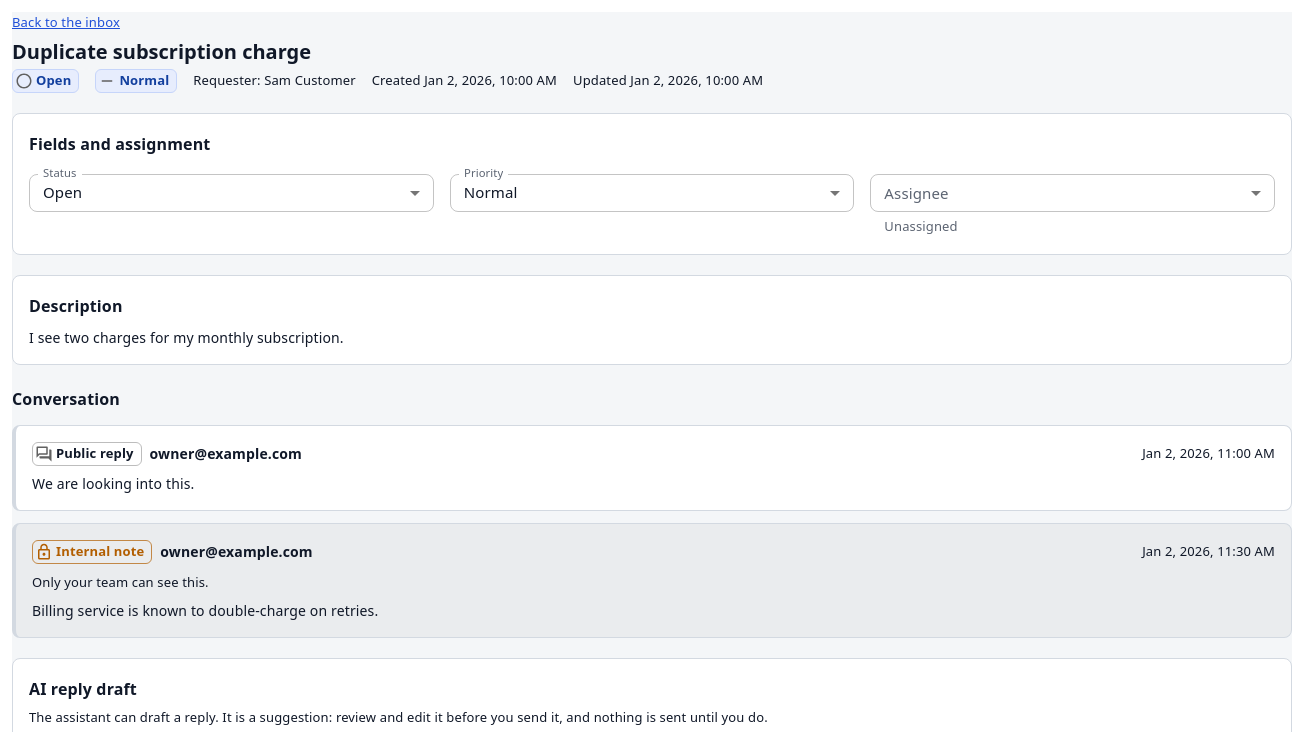
Test: TicketDetailPage › surfaces an illegal transition from the server instead of predicting it
Click the dropdown named "Status" at (63,192), box [43, 182, 82, 202]
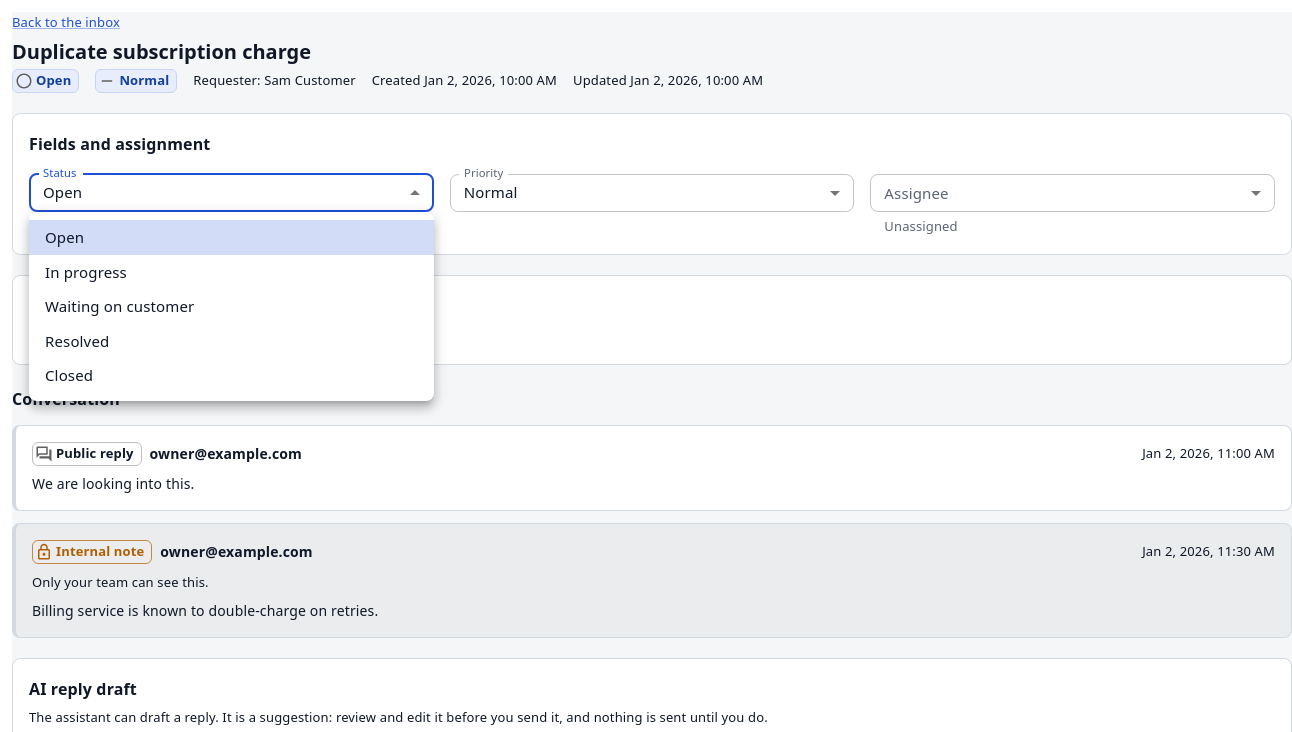
Click the option "Closed" at (69,375), box [45, 365, 93, 385]
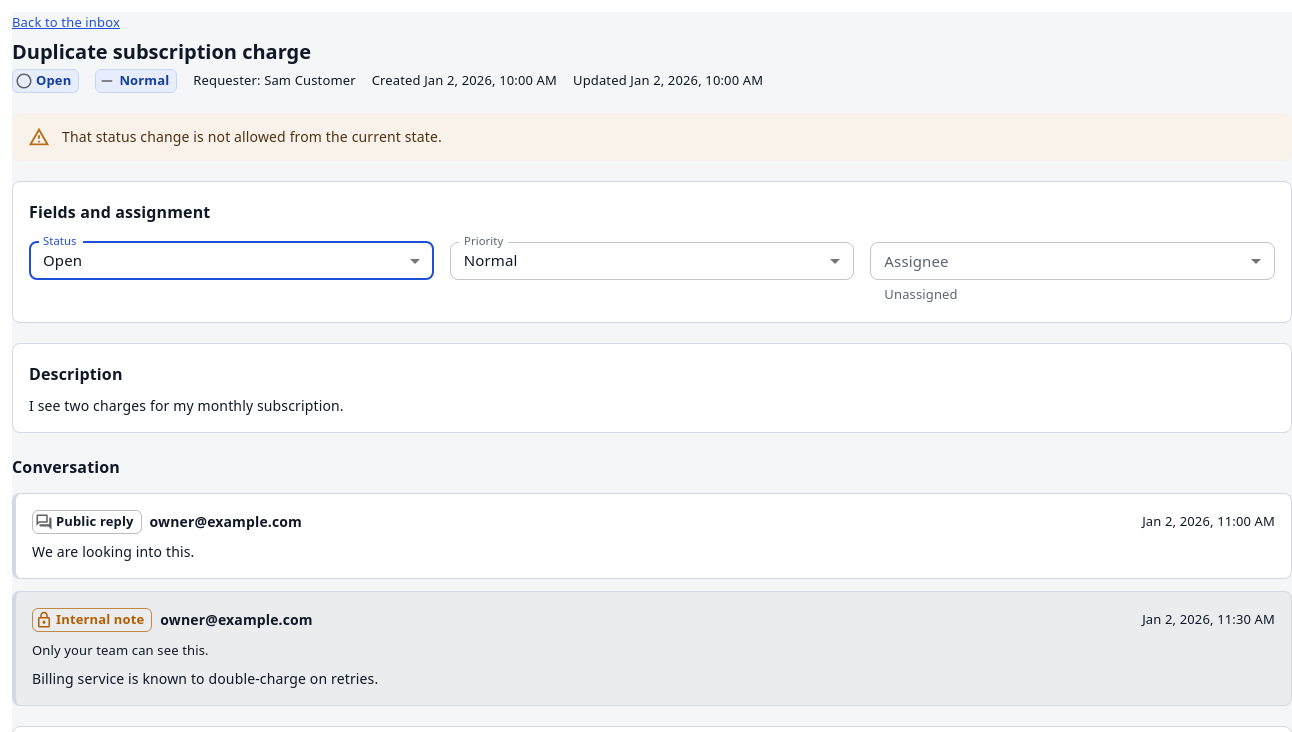
Now the text "That status change is not allowed from the current state." is shown, box [62, 127, 442, 146]
